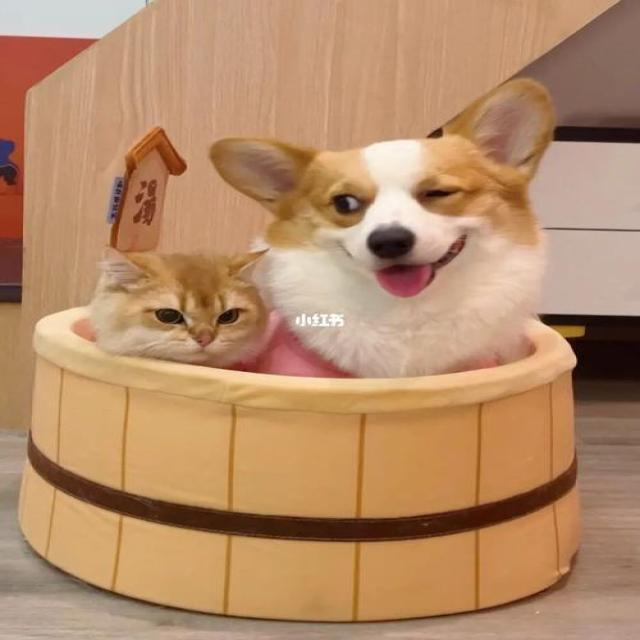cat: (88, 226, 292, 397)
dog: (239, 91, 572, 292)
